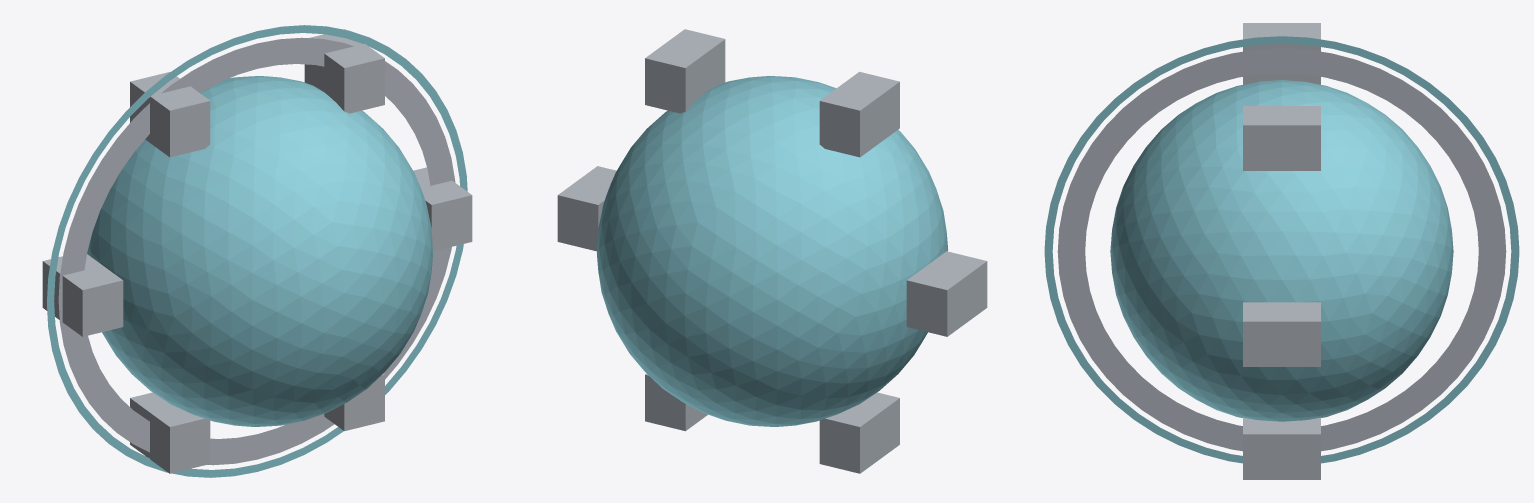
3 views of the same model, side by side, from view 1: azimuth 30°, elevation 25°; view 2: azimuth 150°, elevation 25°; view 3: azimuth 270°, elevation 25° (orthographic). The views are drawn at different scales.
Parts seen in each view (by area): view 1: part000, part006, part007, part011, part010, part009, part012, part008, part013; view 2: part000, part011, part010, part009, part012, part008, part013; view 3: part000, part002, part003, part008, part009, part013, part010.
Boxes of the visible parts, bbox=[...] form: part000: bbox=[87, 76, 433, 426]; part006: bbox=[58, 37, 455, 465]; part007: bbox=[47, 25, 467, 477]; part011: bbox=[42, 254, 123, 336]; part010: bbox=[130, 71, 210, 157]; part009: bbox=[304, 29, 384, 113]; part012: bbox=[130, 392, 210, 473]; part008: bbox=[413, 167, 472, 251]; part013: bbox=[324, 373, 384, 431]; part000: bbox=[596, 76, 948, 426]; part011: bbox=[906, 251, 987, 336]; part010: bbox=[819, 71, 899, 157]; part009: bbox=[645, 29, 725, 113]; part012: bbox=[819, 392, 899, 473]; part008: bbox=[557, 166, 616, 251]; part013: bbox=[645, 373, 707, 431]; part000: bbox=[1110, 80, 1453, 421]; part002: bbox=[1057, 48, 1506, 451]; part003: bbox=[1044, 36, 1519, 463]; part008: bbox=[1243, 302, 1320, 366]; part009: bbox=[1243, 106, 1320, 170]; part013: bbox=[1243, 417, 1320, 479]; part010: bbox=[1243, 23, 1320, 84].
Bounding box in the file's own units: 2.08 × 2.08 × 2.08.
